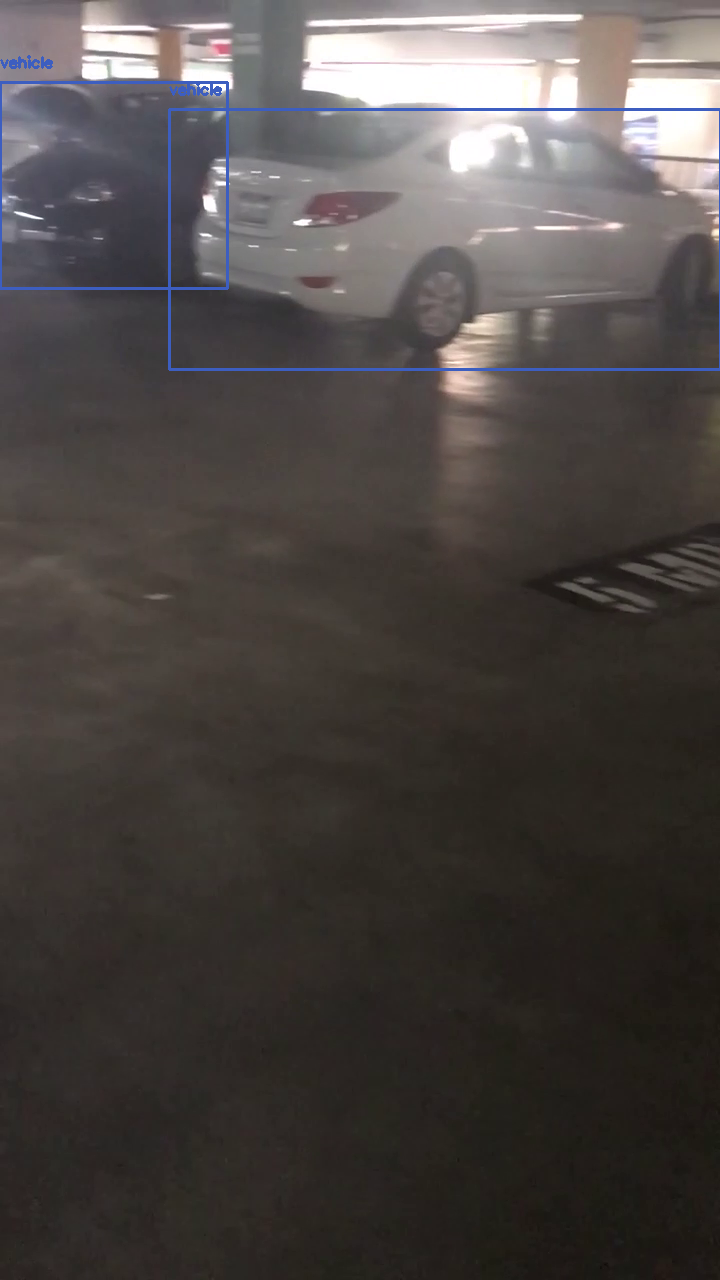vehicle: (169, 109, 720, 369), (0, 82, 227, 288)
